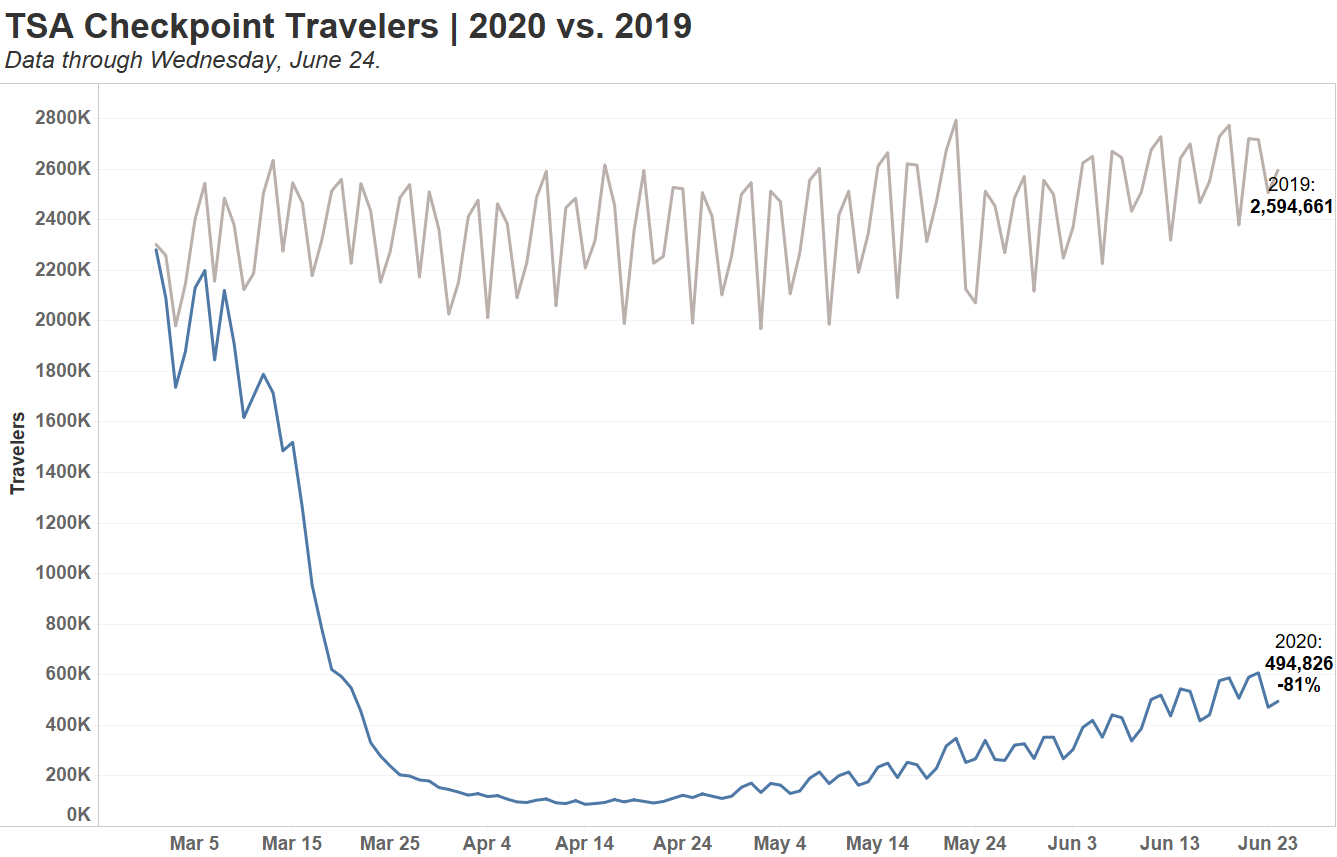

The page's visual inventory and layout, read from the dashboard file:
{"tool":"tableau","page":{"name":"TSA Travelers","canvas":[1024,768],"ordinal":3},"visuals":[{"type":"worksheet","box":[0,0,1024,768]},{"type":"worksheet","title":"Travelers","mark":"Automatic","rows":["2019","2020"],"cols":["Date"],"box":[8,8,1008,752]}]}

Visuals, with their boxes on the page's 1024x768 design canvas (x1, y1, x2, y2). These are canvas units, not pixel positions in the 1337x857 screenshot, which may show the page scaled, cropped or inside an application window:
worksheet: BBox(0, 0, 1024, 768)
"Travelers" worksheet: BBox(8, 8, 1016, 760)
